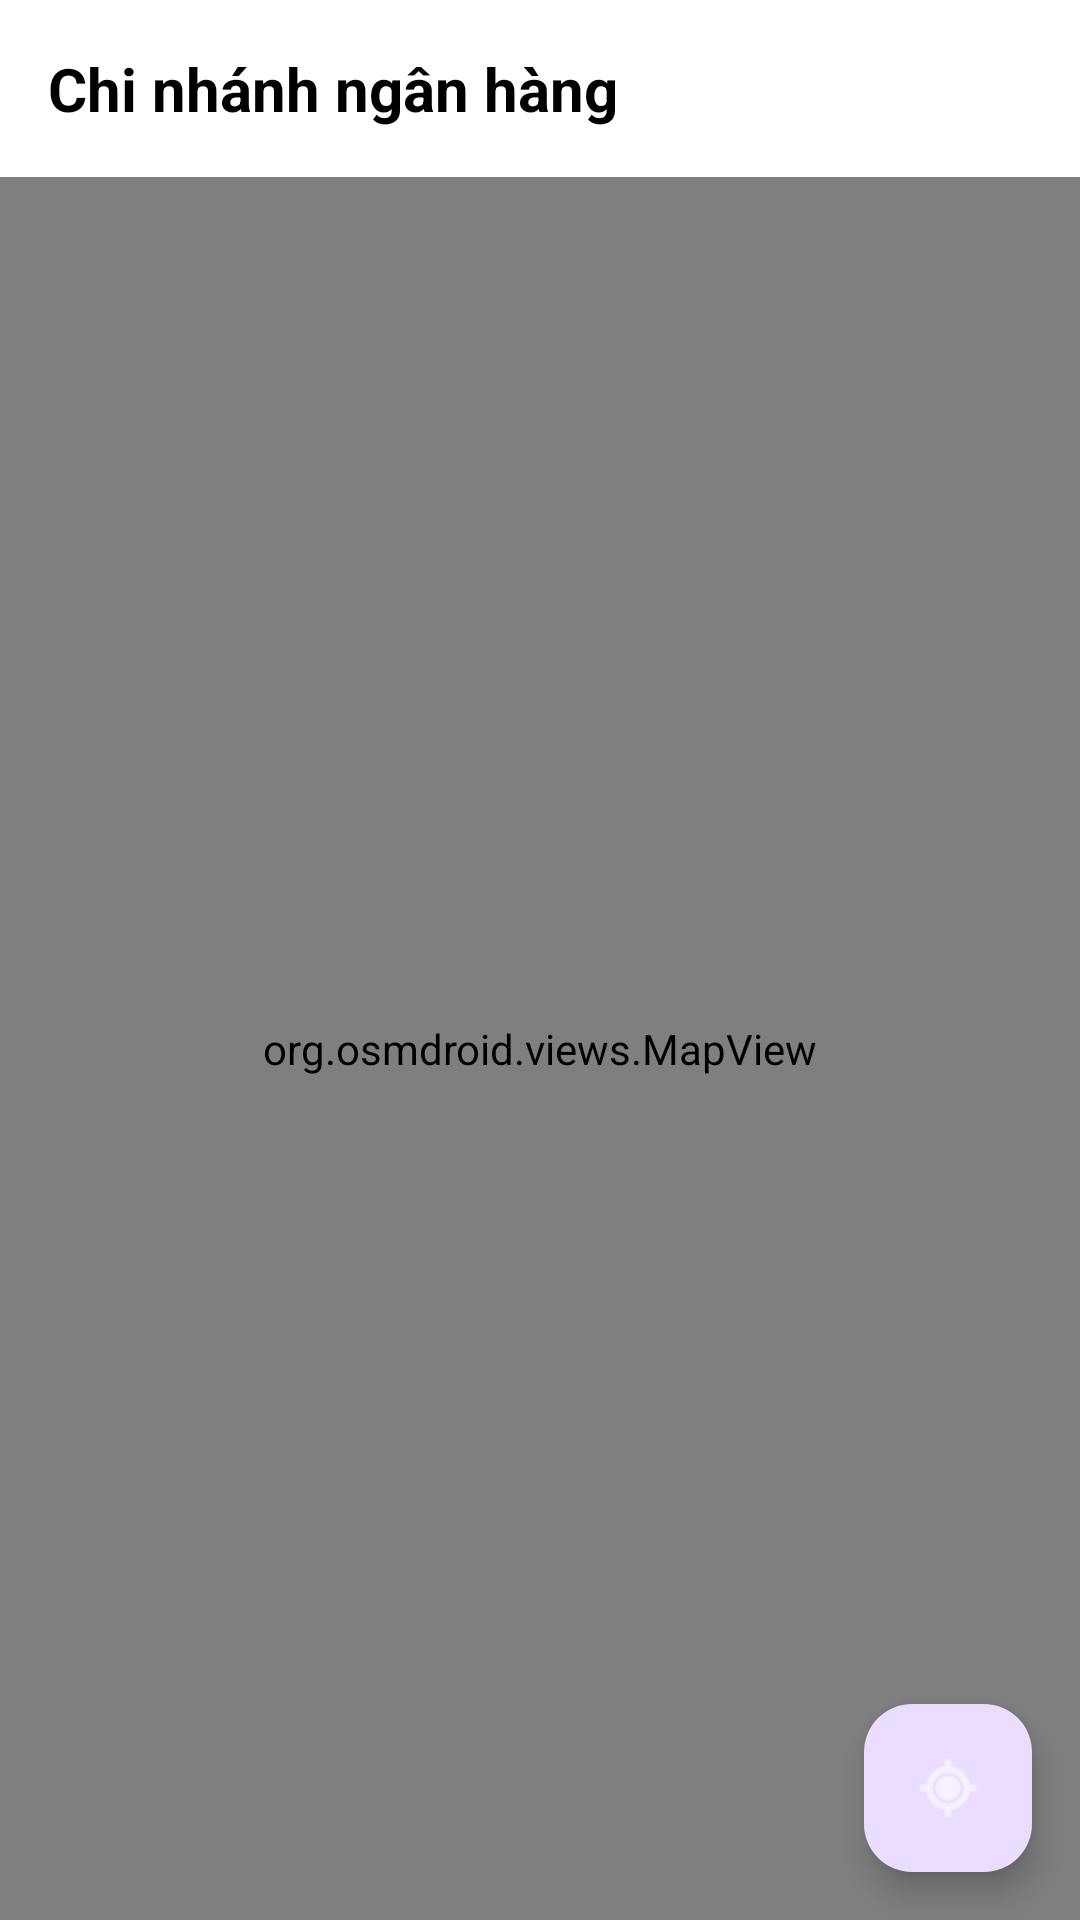

Screen size 1080×1920. Icon name, then its box in pixels as box=[x1, y1, x2, y2]:
Vị trí của tôi: box=[864, 1704, 1032, 1872]
